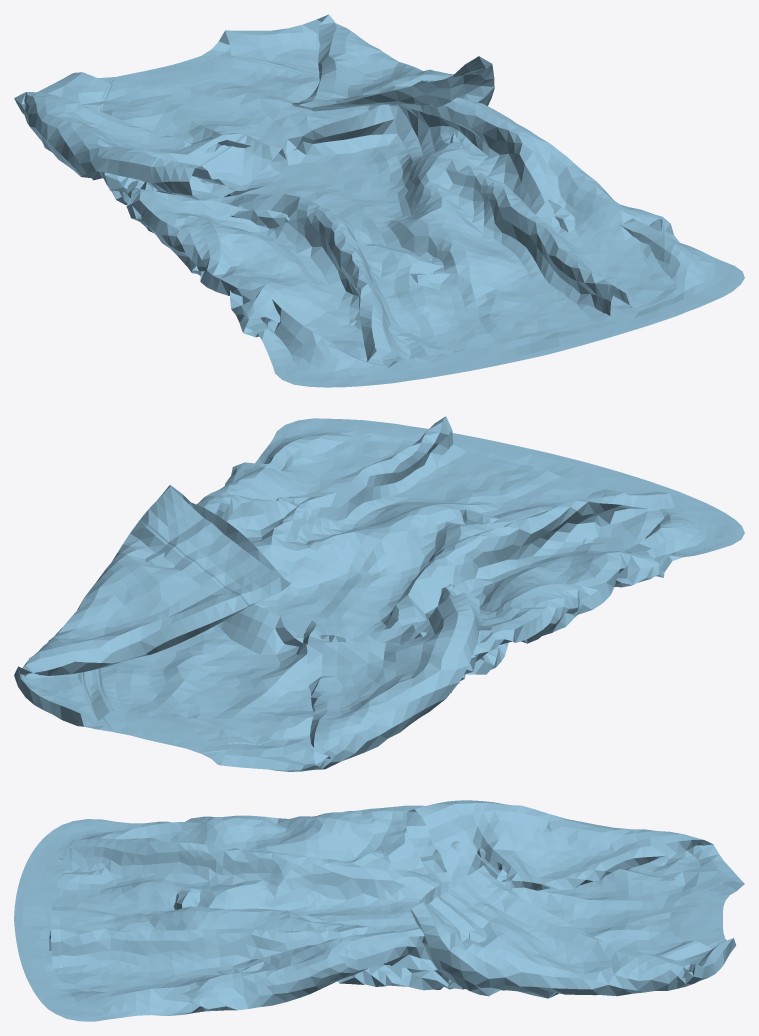
The model's file is frame_19.glb.
3 views of the same model, one above another, from view 1: azimuth 30°, elevation 25°; view 2: azimuth 150°, elevation 25°; view 3: azimuth 270°, elevation 25° (orthographic). The views are drawn at different scales.
Parts seen in each view (by area): view 1: frame_19.obj; view 2: frame_19.obj; view 3: frame_19.obj.
Part boxes in pixels (left/top/right/bottom): frame_19.obj: left=14, top=14, right=744, bottom=387; frame_19.obj: left=14, top=416, right=744, bottom=771; frame_19.obj: left=14, top=800, right=744, bottom=1021.
Size of the model in its own units: 1.19 by 0.2599 by 1.81.
